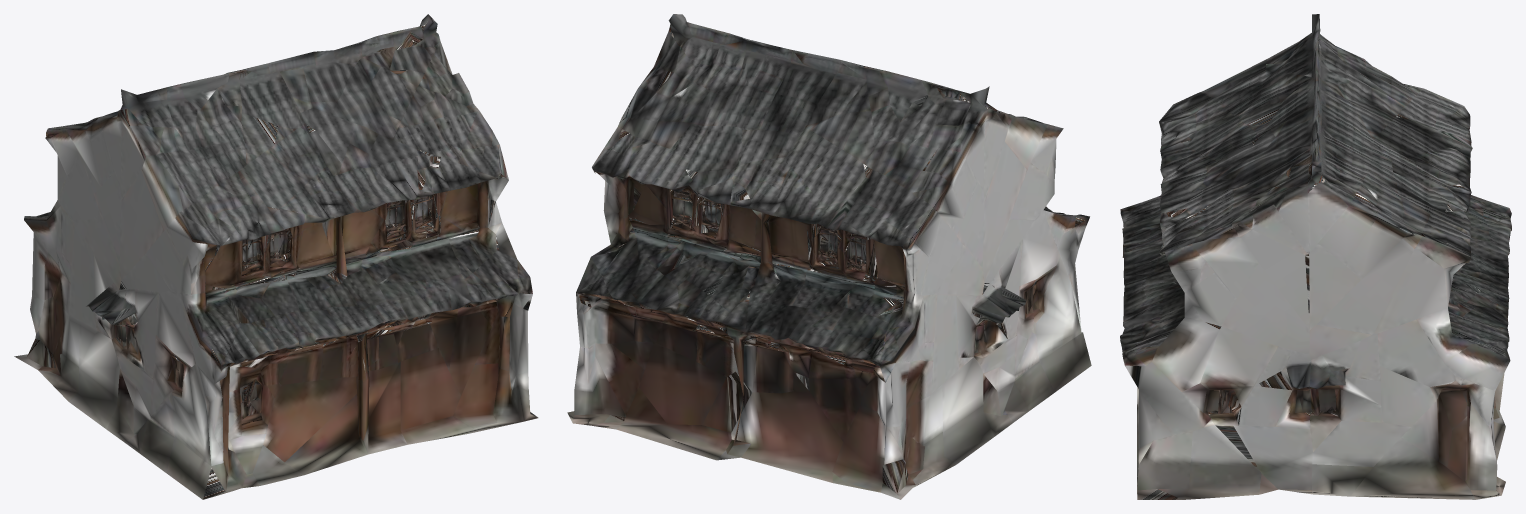
Rendered from bq_house_2f.lod1.glb.
3 renders of one model, left to right at view 1: azimuth 30°, elevation 25°; view 2: azimuth 150°, elevation 25°; view 3: azimuth 270°, elevation 25°, orthographic. The views are drawn at different scales.
Bounding box in the file's own units: 1.9 × 1.68 × 1.8.
Materials: 1 (1 with a texture image).
